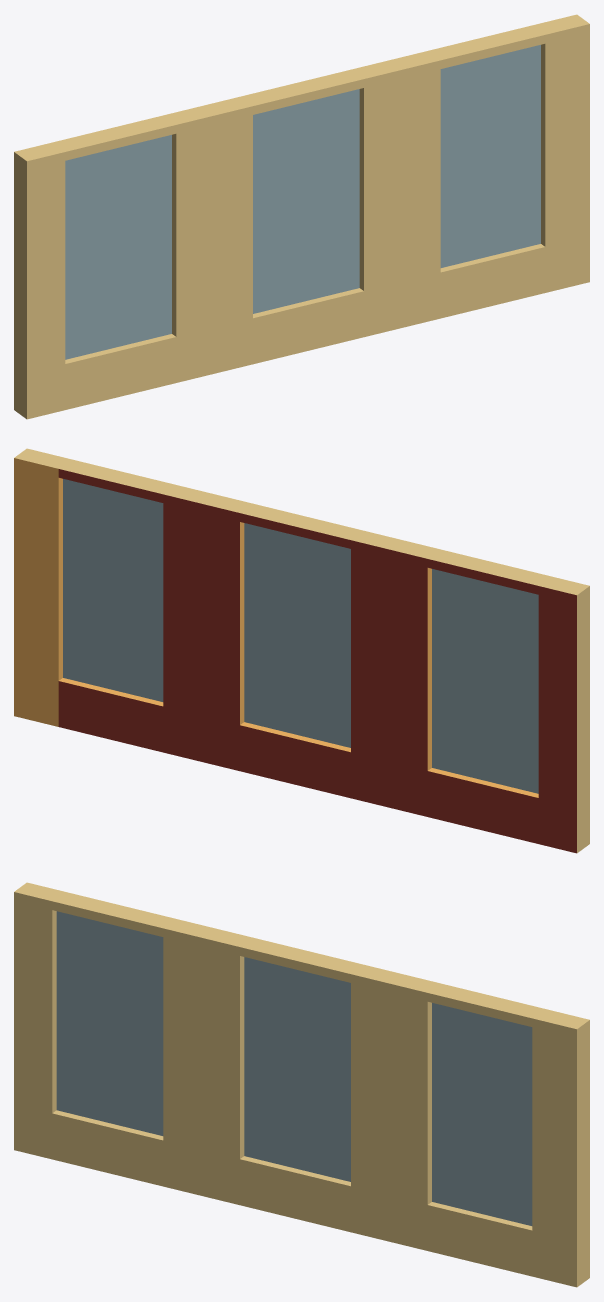
The model's file is GrandChambre_Mur00.fbx.
3 renders of one model, top to bottom at view 1: azimuth 30°, elevation 25°; view 2: azimuth 150°, elevation 25°; view 3: azimuth 330°, elevation 25°, orthographic.
Visible parts, largest first — view 1: Mur00; view 2: Mur00; view 3: Mur00.
Part boxes in pixels (bbox=[...]): Mur00: bbox=[14, 14, 589, 419]; Mur00: bbox=[14, 448, 589, 853]; Mur00: bbox=[14, 882, 589, 1287].
Bounding box in the file's own units: 13.57 × 5.94 × 0.5414.
